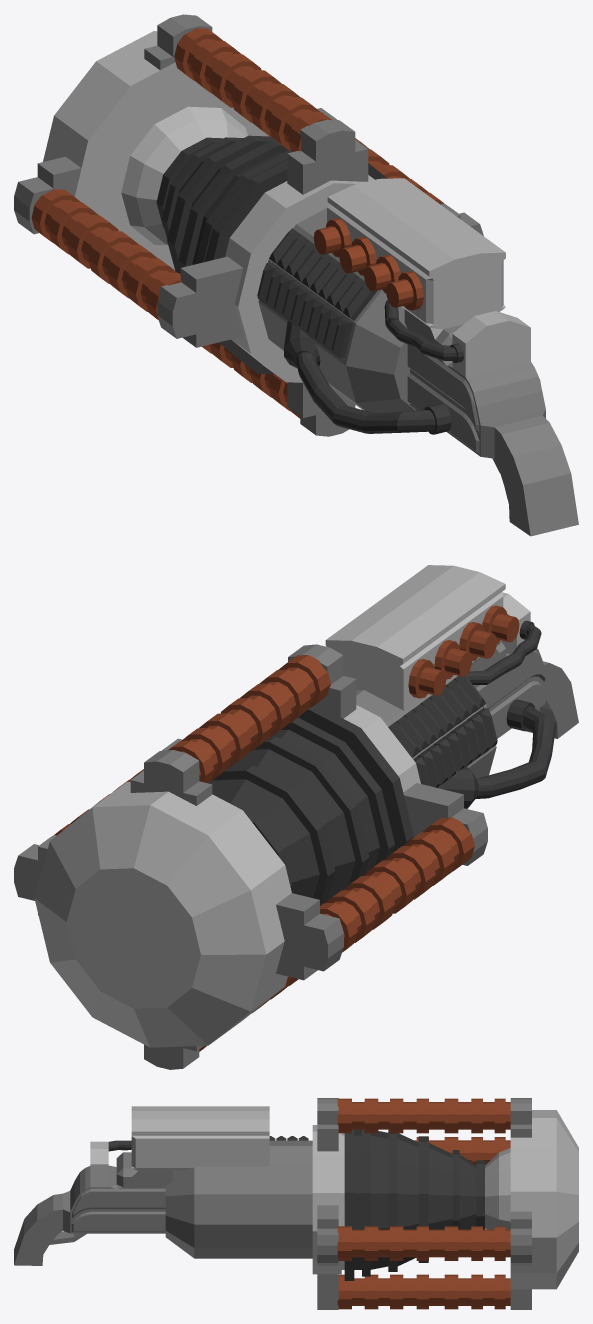
Rendered from electricGun.dae.
3 renders of one model, top to bottom at view 1: azimuth 30°, elevation 25°; view 2: azimuth 150°, elevation 25°; view 3: azimuth 270°, elevation 25°, orthographic. The views are drawn at different scales.
Parts seen in each view (by area): view 1: Cube; view 2: Cube; view 3: Cube.
Part boxes in pixels (x1,y1,x2,y2): Cube: (14,14,578,536); Cube: (14,565,578,1069); Cube: (14,1098,578,1309).
Bounding box in the file's own units: 9.65 × 22.14 × 8.98.
